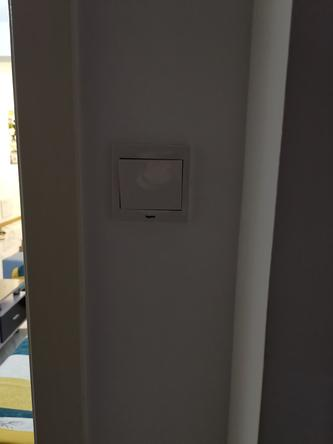switch: (117, 155, 187, 202)
